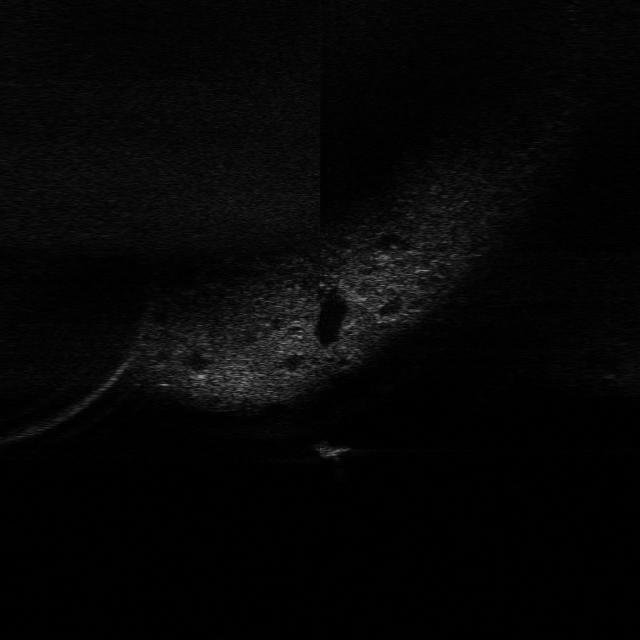cube: (308, 438, 356, 462)
